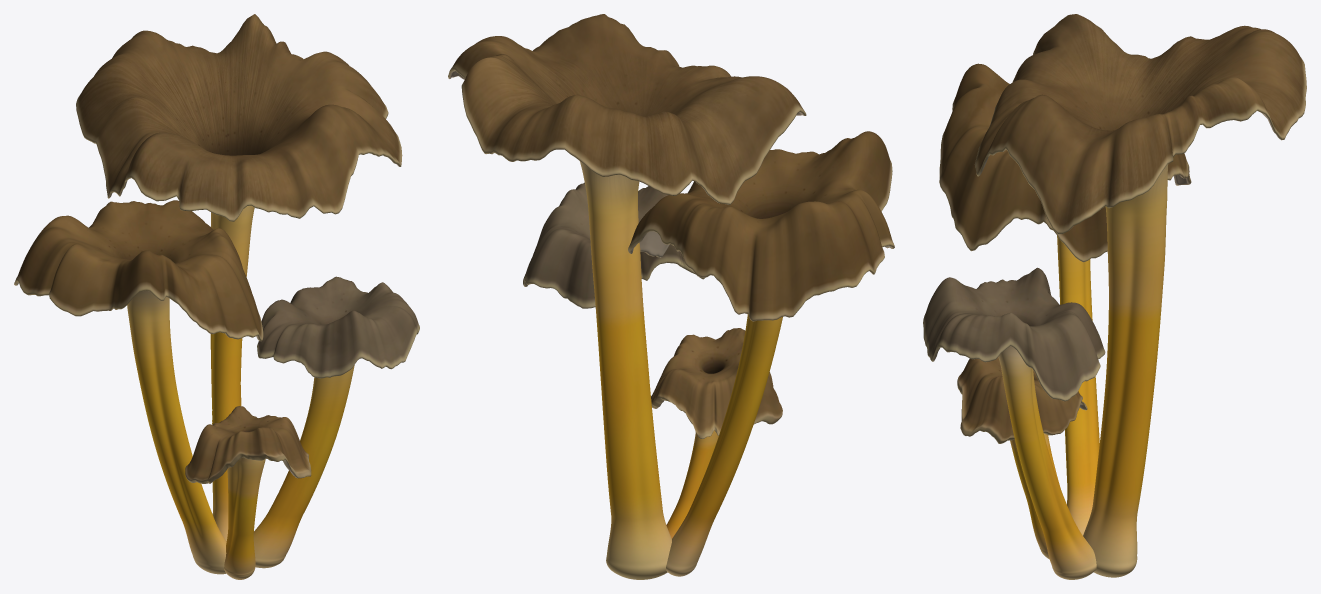
File: craterellus-lutescens.glb
3 renders of one model, left to right at view 1: azimuth 30°, elevation 25°; view 2: azimuth 150°, elevation 25°; view 3: azimuth 270°, elevation 25°, orthographic. The views are drawn at different scales.
Visible parts, largest first — view 1: big, mid, small, young; view 2: big, mid, young, small; view 3: big, small, mid, young.
Part boxes in pixels (x1,y1,x2,y2): big: (76,14,402,540); mid: (14,200,263,574); small: (253,276,419,568); young: (185,406,311,579); big: (448,14,806,579); mid: (628,131,894,576); young: (651,328,782,538); small: (523,182,705,308); big: (974,14,1306,577); small: (923,267,1105,579); mid: (939,63,1191,535); young: (957,357,1087,559).
Size of the model in its own units: 0.0679 by 0.0855 by 0.0553.
4 materials, 4 textured.
